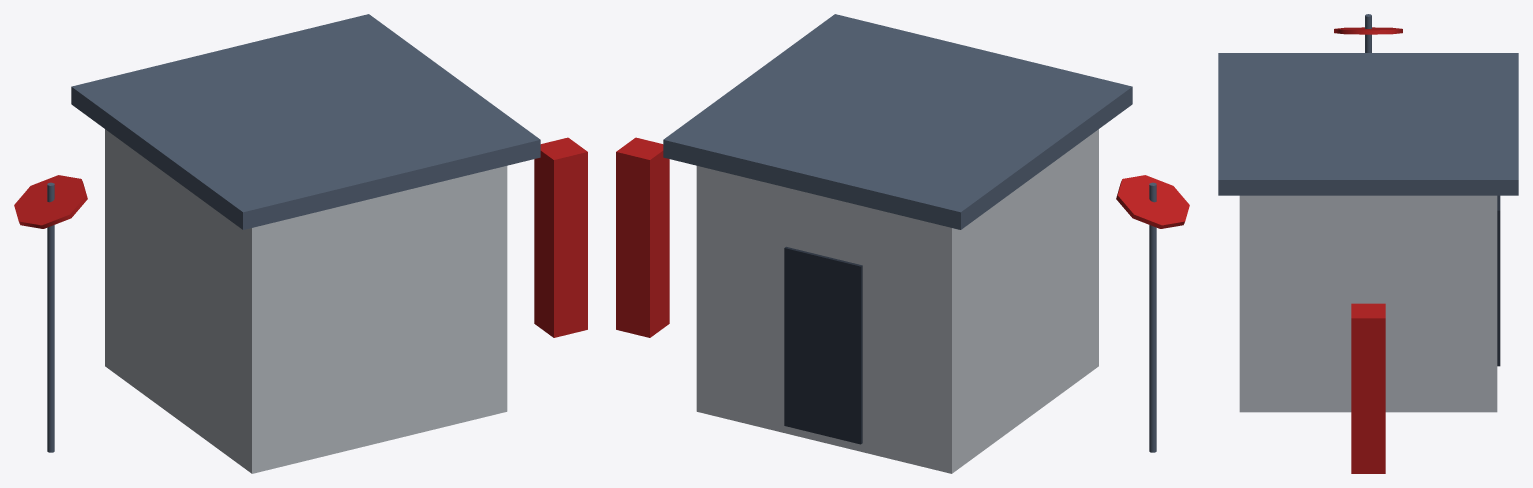
The model's file is yard-guard-shack-body-authored-vertex-colour-tripo-finish.glb.
The picture shows the model from 3 angles, left to right: view 1: azimuth 30°, elevation 25°; view 2: azimuth 150°, elevation 25°; view 3: azimuth 270°, elevation 25°; orthographic projection. The views are drawn at different scales.
Parts seen in each view (by area): view 1: Authored shadows false:false; view 2: Authored shadows false:false; view 3: Authored shadows false:false.
Part boxes in pixels (x1,y1,x2,y2): Authored shadows false:false: (14, 14, 587, 473); Authored shadows false:false: (616, 14, 1189, 473); Authored shadows false:false: (1218, 14, 1518, 473).
Bounding box in the file's own units: 1 × 0.4712 × 0.532.
